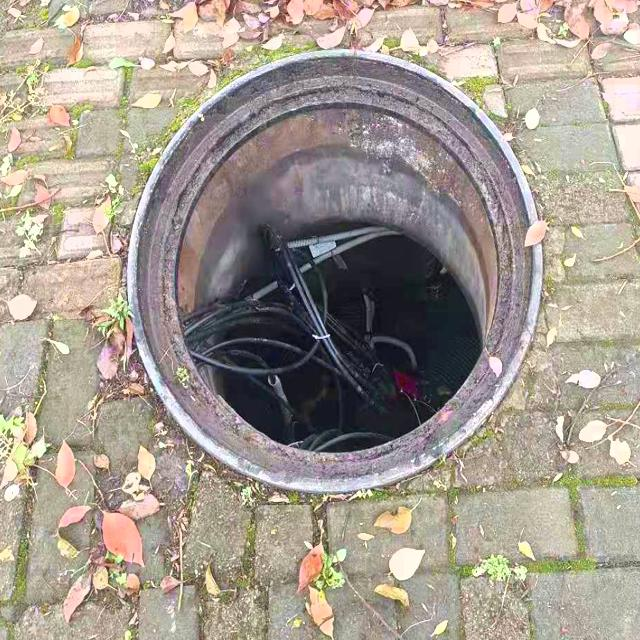lose: (132, 48, 544, 494)
